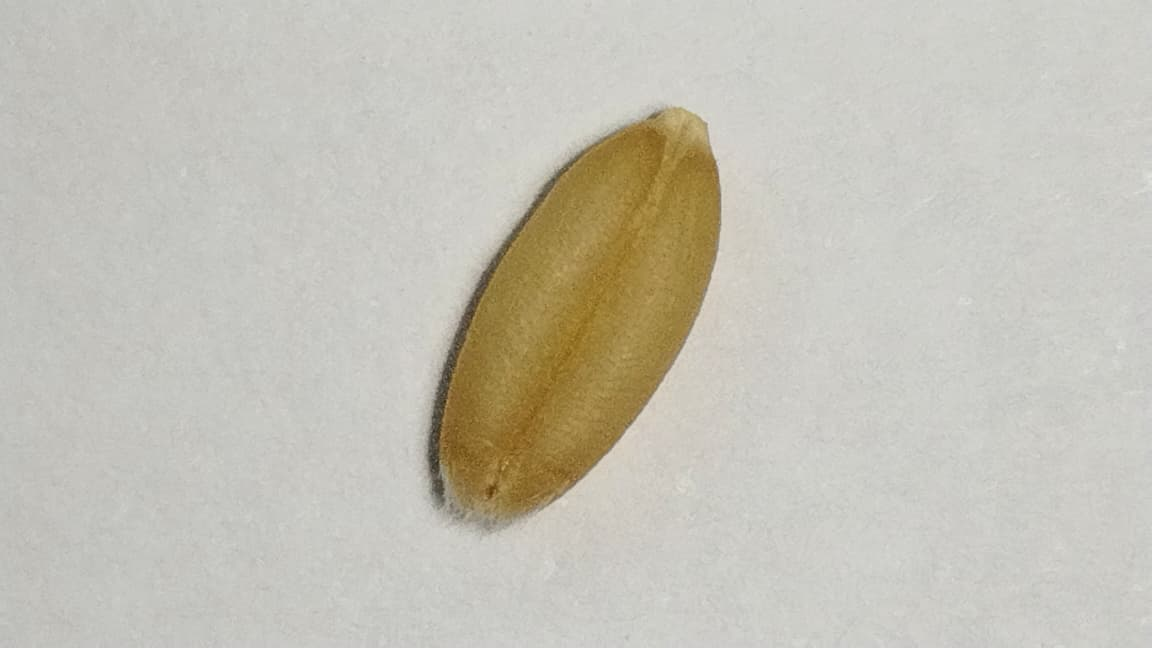healthy: (433, 108, 719, 527)
